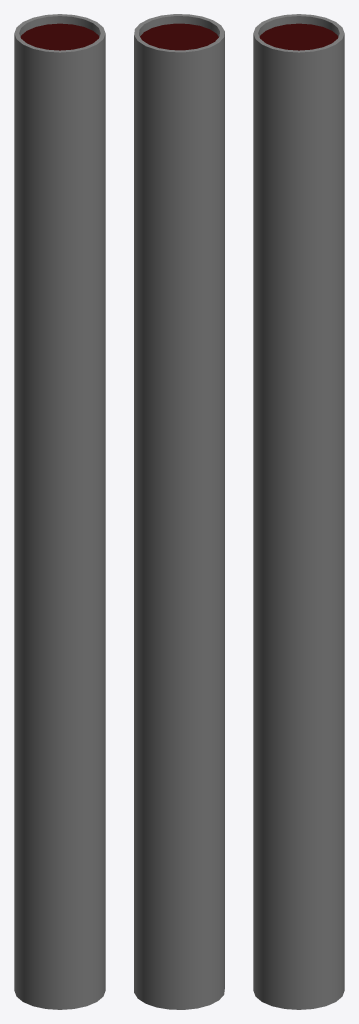
Rendered from Romancandle.fbx.
3 views of the same model, side by side, from view 1: azimuth 90°, elevation 25°; view 2: azimuth 150°, elevation 25°; view 3: azimuth 270°, elevation 25° (orthographic).
Parts seen in each view (by area): view 1: Romancandle; view 2: Romancandle; view 3: Romancandle.
Boxes of the visible parts, <box> form: Romancandle: <box>14,14,105,1009</box>; Romancandle: <box>134,14,224,1009</box>; Romancandle: <box>253,14,344,1009</box>.
Bounding box in the file's own units: 2.36 × 27.31 × 2.36.
